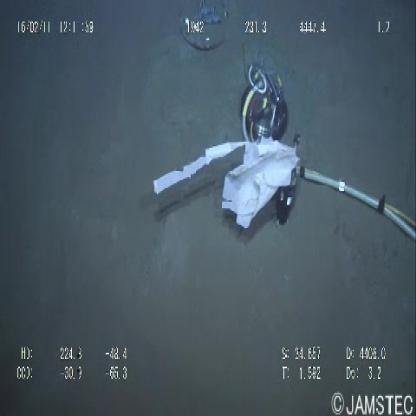Rác: (149, 130, 302, 233)
